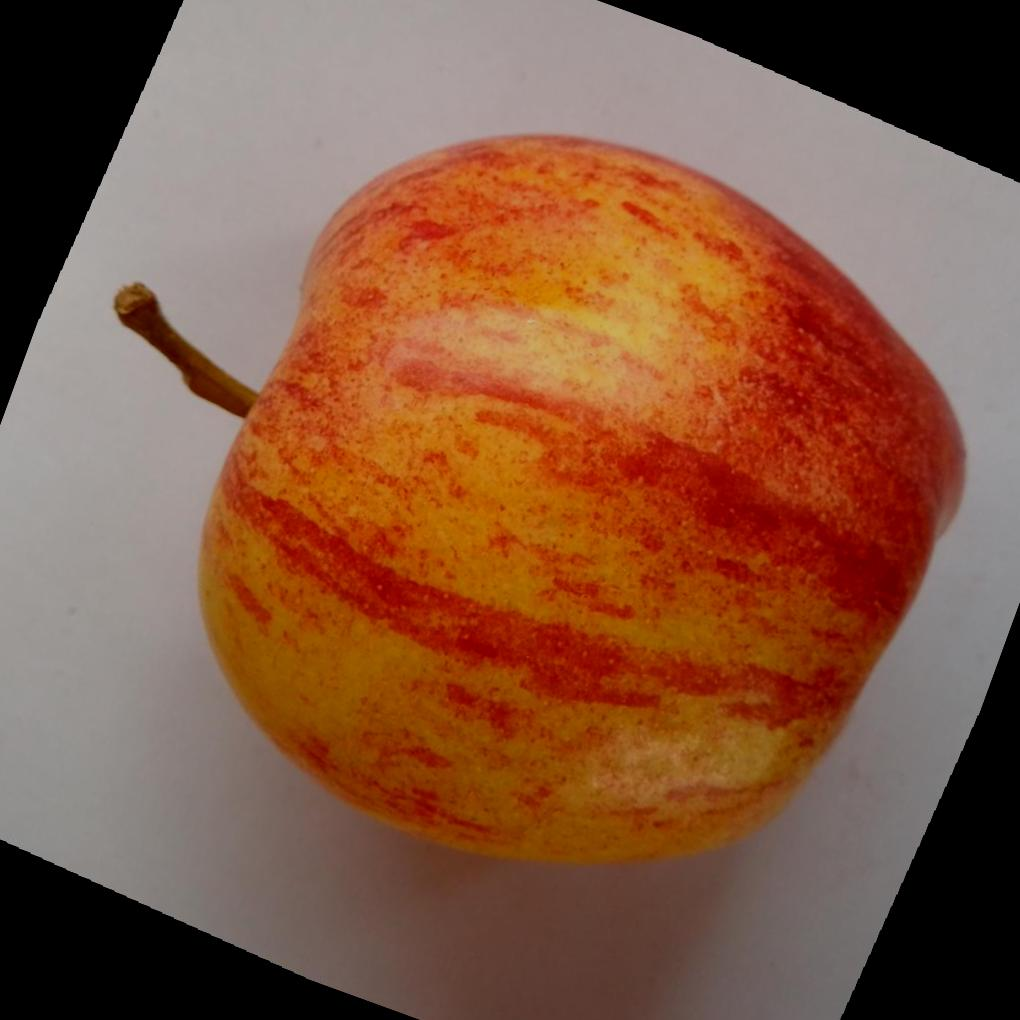FreshGuava: (117, 128, 968, 863)
